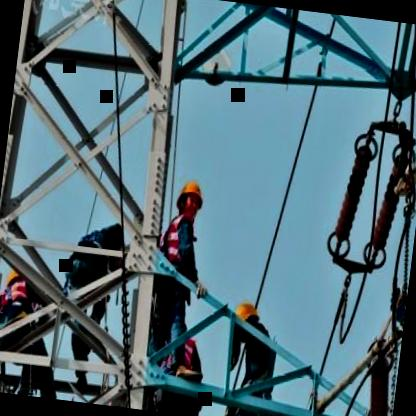helmet: (230, 292, 262, 341), (174, 174, 204, 223)
